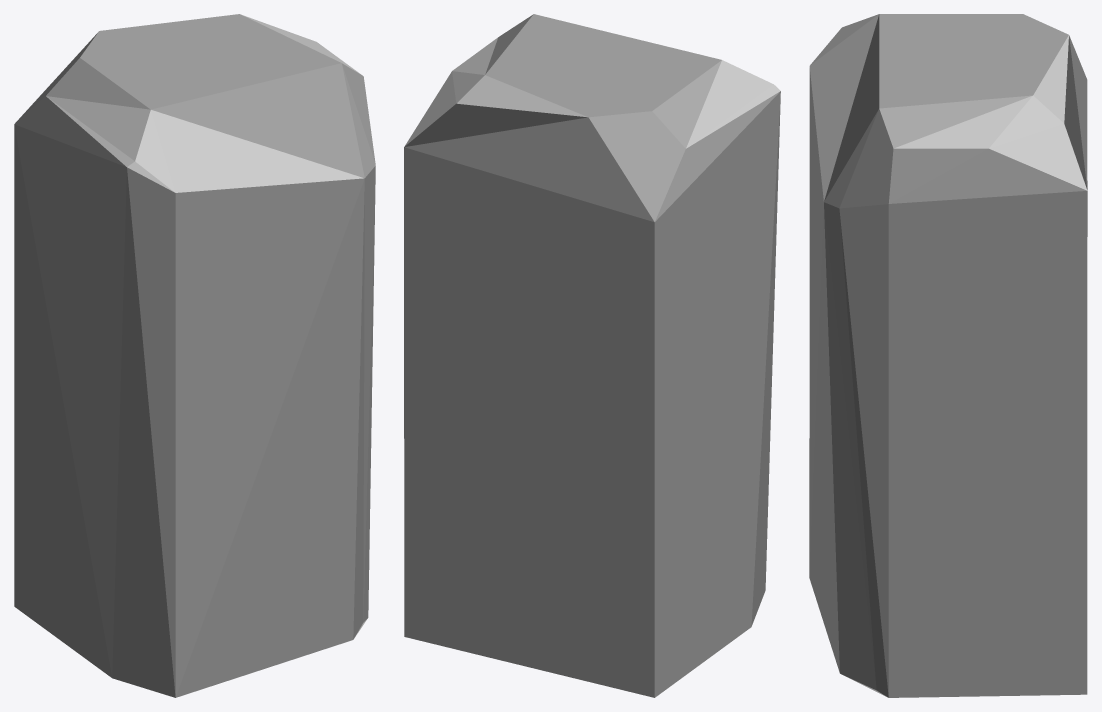
Rendered from rock_8.fbx.
3 views of the same model, side by side, from view 1: azimuth 30°, elevation 25°; view 2: azimuth 150°, elevation 25°; view 3: azimuth 270°, elevation 25° (orthographic). The views are drawn at different scales.
Visible parts, largest first — view 1: rock_8; view 2: rock_8; view 3: rock_8.
Boxes of the visible parts, x1,y1,x2,y2 form: rock_8: (14,14,375,697); rock_8: (404,14,780,697); rock_8: (809,14,1087,697).
Bounding box in the file's own units: 45.4 × 92.98 × 40.82.
